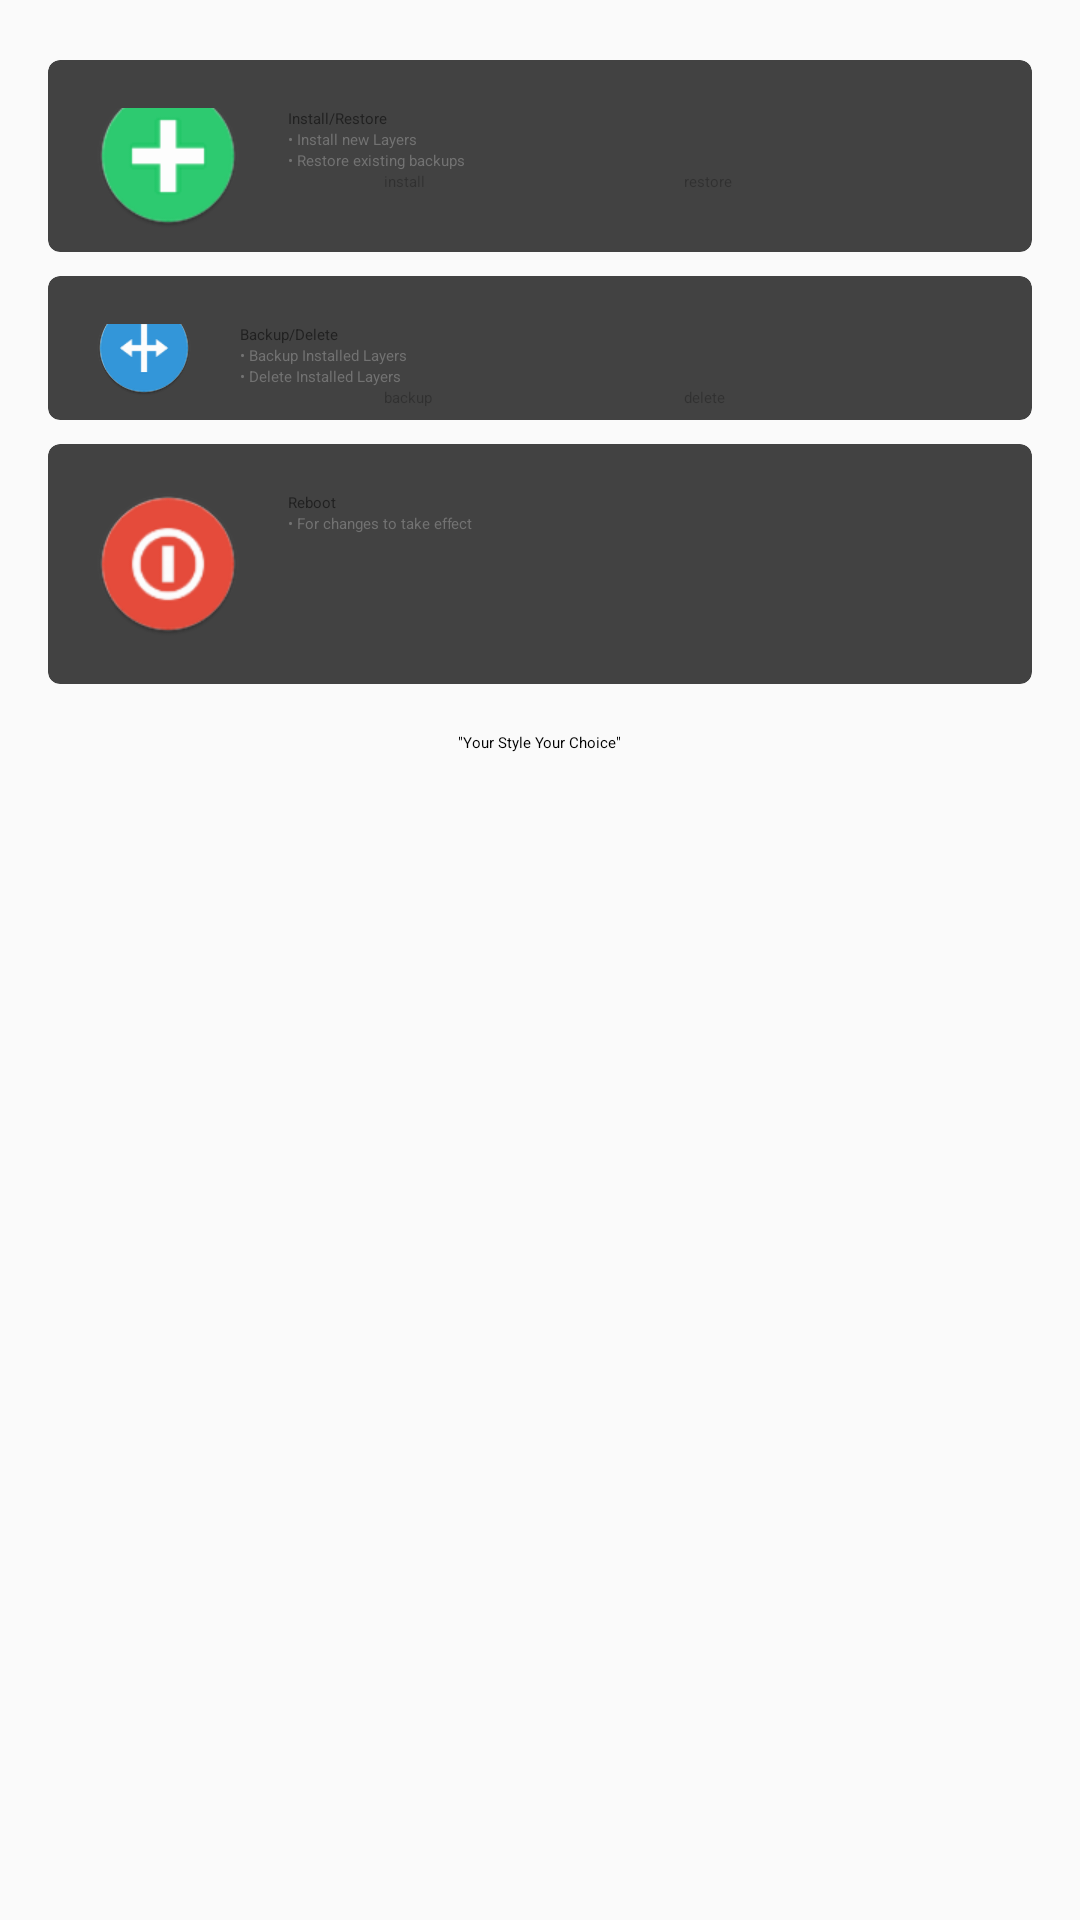

Where icons sit on this 1080x1920 app screen, as [x1=x1, y1=y1, x2=x2, y2=y2]:
plus: [x1=101, y1=108, x2=235, y2=222]
